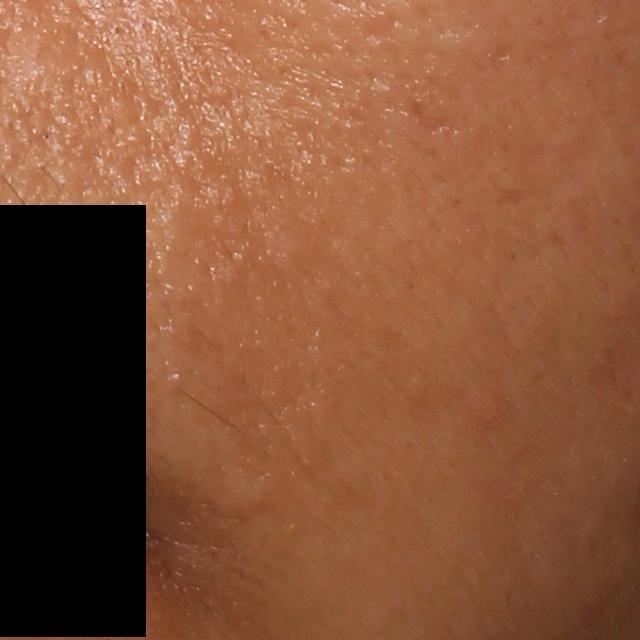comedo: (164, 369, 186, 387)
